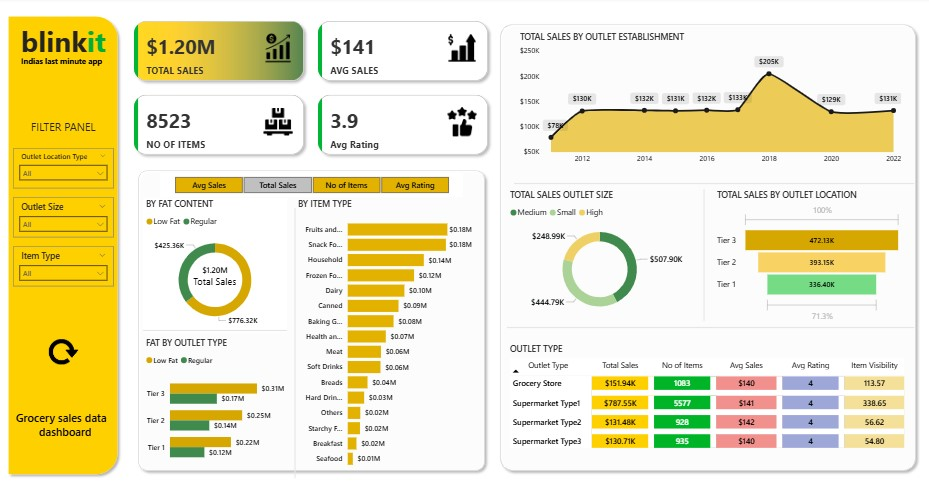

Layout of this report page (visuals, bound fields, positions):
{"tool":"powerbi","page":{"name":"Dashboard","canvas":[1600,850],"ordinal":0},"visuals":[{"type":"shape","box":[17.2,24.1,204.7,800],"z":0},{"type":"textbox","box":[24.1,37.8,192.7,74],"z":1000},{"type":"textbox","box":[43,96.3,153.1,29.2],"z":2000},{"type":"cardVisual","fields":{"Data":["BlinkIT Grocery Data.Total Sales","BlinkIT Grocery Data.Avg Sales","BlinkIT Grocery Data.No of Items","BlinkIT Grocery Data.Avg Rating"]},"box":[223.6,23.9,638.4,262.9],"z":3000},{"type":"shape","box":[239,286.7,609.3,530.8],"z":4000},{"type":"donutChart","title":"BY FAT CONTENT","fields":{"Y":["BlinkIT Grocery Data.Total Sales"],"Category":["BlinkIT Grocery Data.Item Fat Content"]},"box":[256,343.1,245.8,230.4],"z":5000},{"type":"slicer","fields":{"Values":["Matrix.Matrix"]},"box":[285,300.4,517.2,41],"z":6000},{"type":"cardVisual","fields":{"Data":["BlinkIT Grocery Data.Total Sales"]},"box":[322.6,440.4,112.7,61.4],"z":7000},{"type":"clusteredBarChart","title":"FAT BY OUTLET TYPE","fields":{"Y":["BlinkIT Grocery Data.Total Sales"],"Category":["BlinkIT Grocery Data.Outlet Location Type"],"Series":["BlinkIT Grocery Data.Item Fat Content"]},"box":[256.3,579.8,246,230.5],"z":8000},{"type":"shape","box":[256,563.3,245.8,11.9],"z":9000},{"type":"shape","box":[509.2,359.6,13.8,461.1],"z":10000},{"type":"barChart","title":"BY ITEM TYPE","fields":{"Y":["BlinkIT Grocery Data.Total Sales"],"Category":["BlinkIT Grocery Data.Item Type"]},"box":[515.5,343.1,307.2,471.1],"z":11000},{"type":"shape","box":[856.8,37.6,727.1,780],"z":12000},{"type":"lineChart","title":"TOTAL SALES BY OUTLET ESTABLISHMENT","fields":{"Category":["BlinkIT Grocery Data.Outlet Establishment Year"],"Y":["BlinkIT Grocery Data.Total Sales"]},"box":[894.6,58.5,660.6,235.7],"z":13000},{"type":"shape","box":[889.5,313.1,683,12],"z":14000},{"type":"pieChart","title":"TOTAL SALES OUTLET SIZE","fields":{"Y":["BlinkIT Grocery Data.Total Sales"],"Category":["BlinkIT Grocery Data.Outlet Size"]},"box":[877.4,326.9,316.6,225.4],"z":15000},{"type":"shape","box":[1206,326.9,13.8,225.4],"z":16000},{"type":"funnel","title":"TOTAL SALES BY OUTLET LOCATION","fields":{"Y":["Sum(BlinkIT Grocery Data.Sales)"],"Category":["BlinkIT Grocery Data.Outlet Location Type"]},"box":[1230.6,327.7,324.3,230.4],"z":17000},{"type":"shape","box":[877.4,557.4,695.1,12],"z":18000},{"type":"pivotTable","title":"OUTLET TYPE","fields":{"Rows":["BlinkIT Grocery Data.Outlet Type"],"Values":["BlinkIT Grocery Data.Total Sales","BlinkIT Grocery Data.No of Items","BlinkIT Grocery Data.Avg Sales","BlinkIT Grocery Data.Avg Rating","Sum(BlinkIT Grocery Data.Item Visibility)"]},"box":[877.3,590.6,694.7,186],"z":19000},{"type":"slicer","fields":{"Values":["BlinkIT Grocery Data.Outlet Location Type"]},"box":[34.4,258.1,172,68.8],"z":20000},{"type":"slicer","fields":{"Values":["BlinkIT Grocery Data.Outlet Size"]},"box":[34.4,340.6,172,68.8],"z":21000},{"type":"slicer","fields":{"Values":["BlinkIT Grocery Data.Item Type"]},"box":[34.4,424.9,172,68.8],"z":22000},{"type":"textbox","box":[60.2,203,135.9,43],"z":23000},{"type":"textbox","box":[34,699,173.4,76.9],"z":24000},{"type":"image","box":[48.2,529.9,144.5,153.1],"z":25000}]}

Visuals, with their boxes in screenshot pixels (x1, y1, x2, y2), scaled from the page's 1600x850 canvas onto the 929x492 screenshot:
shape: (left=10, top=14, right=129, bottom=477)
textbox: (left=14, top=22, right=126, bottom=65)
textbox: (left=25, top=56, right=114, bottom=73)
cardVisual - BlinkIT Grocery Data.Total Sales x BlinkIT Grocery Data.Avg Sales: (left=130, top=14, right=500, bottom=166)
shape: (left=139, top=166, right=493, bottom=473)
"BY FAT CONTENT" donutChart: (left=149, top=199, right=291, bottom=332)
slicer - Matrix.Matrix: (left=165, top=174, right=466, bottom=198)
cardVisual - BlinkIT Grocery Data.Total Sales: (left=187, top=255, right=253, bottom=290)
"FAT BY OUTLET TYPE" clusteredBarChart: (left=149, top=336, right=292, bottom=469)
shape: (left=149, top=326, right=291, bottom=333)
shape: (left=296, top=208, right=304, bottom=475)
"BY ITEM TYPE" barChart: (left=299, top=199, right=478, bottom=471)
shape: (left=497, top=22, right=920, bottom=473)
"TOTAL SALES BY OUTLET ESTABLISHMENT" lineChart: (left=519, top=34, right=903, bottom=170)
shape: (left=516, top=181, right=913, bottom=188)
"TOTAL SALES OUTLET SIZE" pieChart: (left=509, top=189, right=693, bottom=320)
shape: (left=700, top=189, right=708, bottom=320)
"TOTAL SALES BY OUTLET LOCATION" funnel: (left=715, top=190, right=903, bottom=323)
shape: (left=509, top=323, right=913, bottom=330)
"OUTLET TYPE" pivotTable: (left=509, top=342, right=913, bottom=450)
slicer - BlinkIT Grocery Data.Outlet Location Type: (left=20, top=149, right=120, bottom=189)
slicer - BlinkIT Grocery Data.Outlet Size: (left=20, top=197, right=120, bottom=237)
slicer - BlinkIT Grocery Data.Item Type: (left=20, top=246, right=120, bottom=286)
textbox: (left=35, top=118, right=114, bottom=142)
textbox: (left=20, top=405, right=120, bottom=449)
image: (left=28, top=307, right=112, bottom=395)
